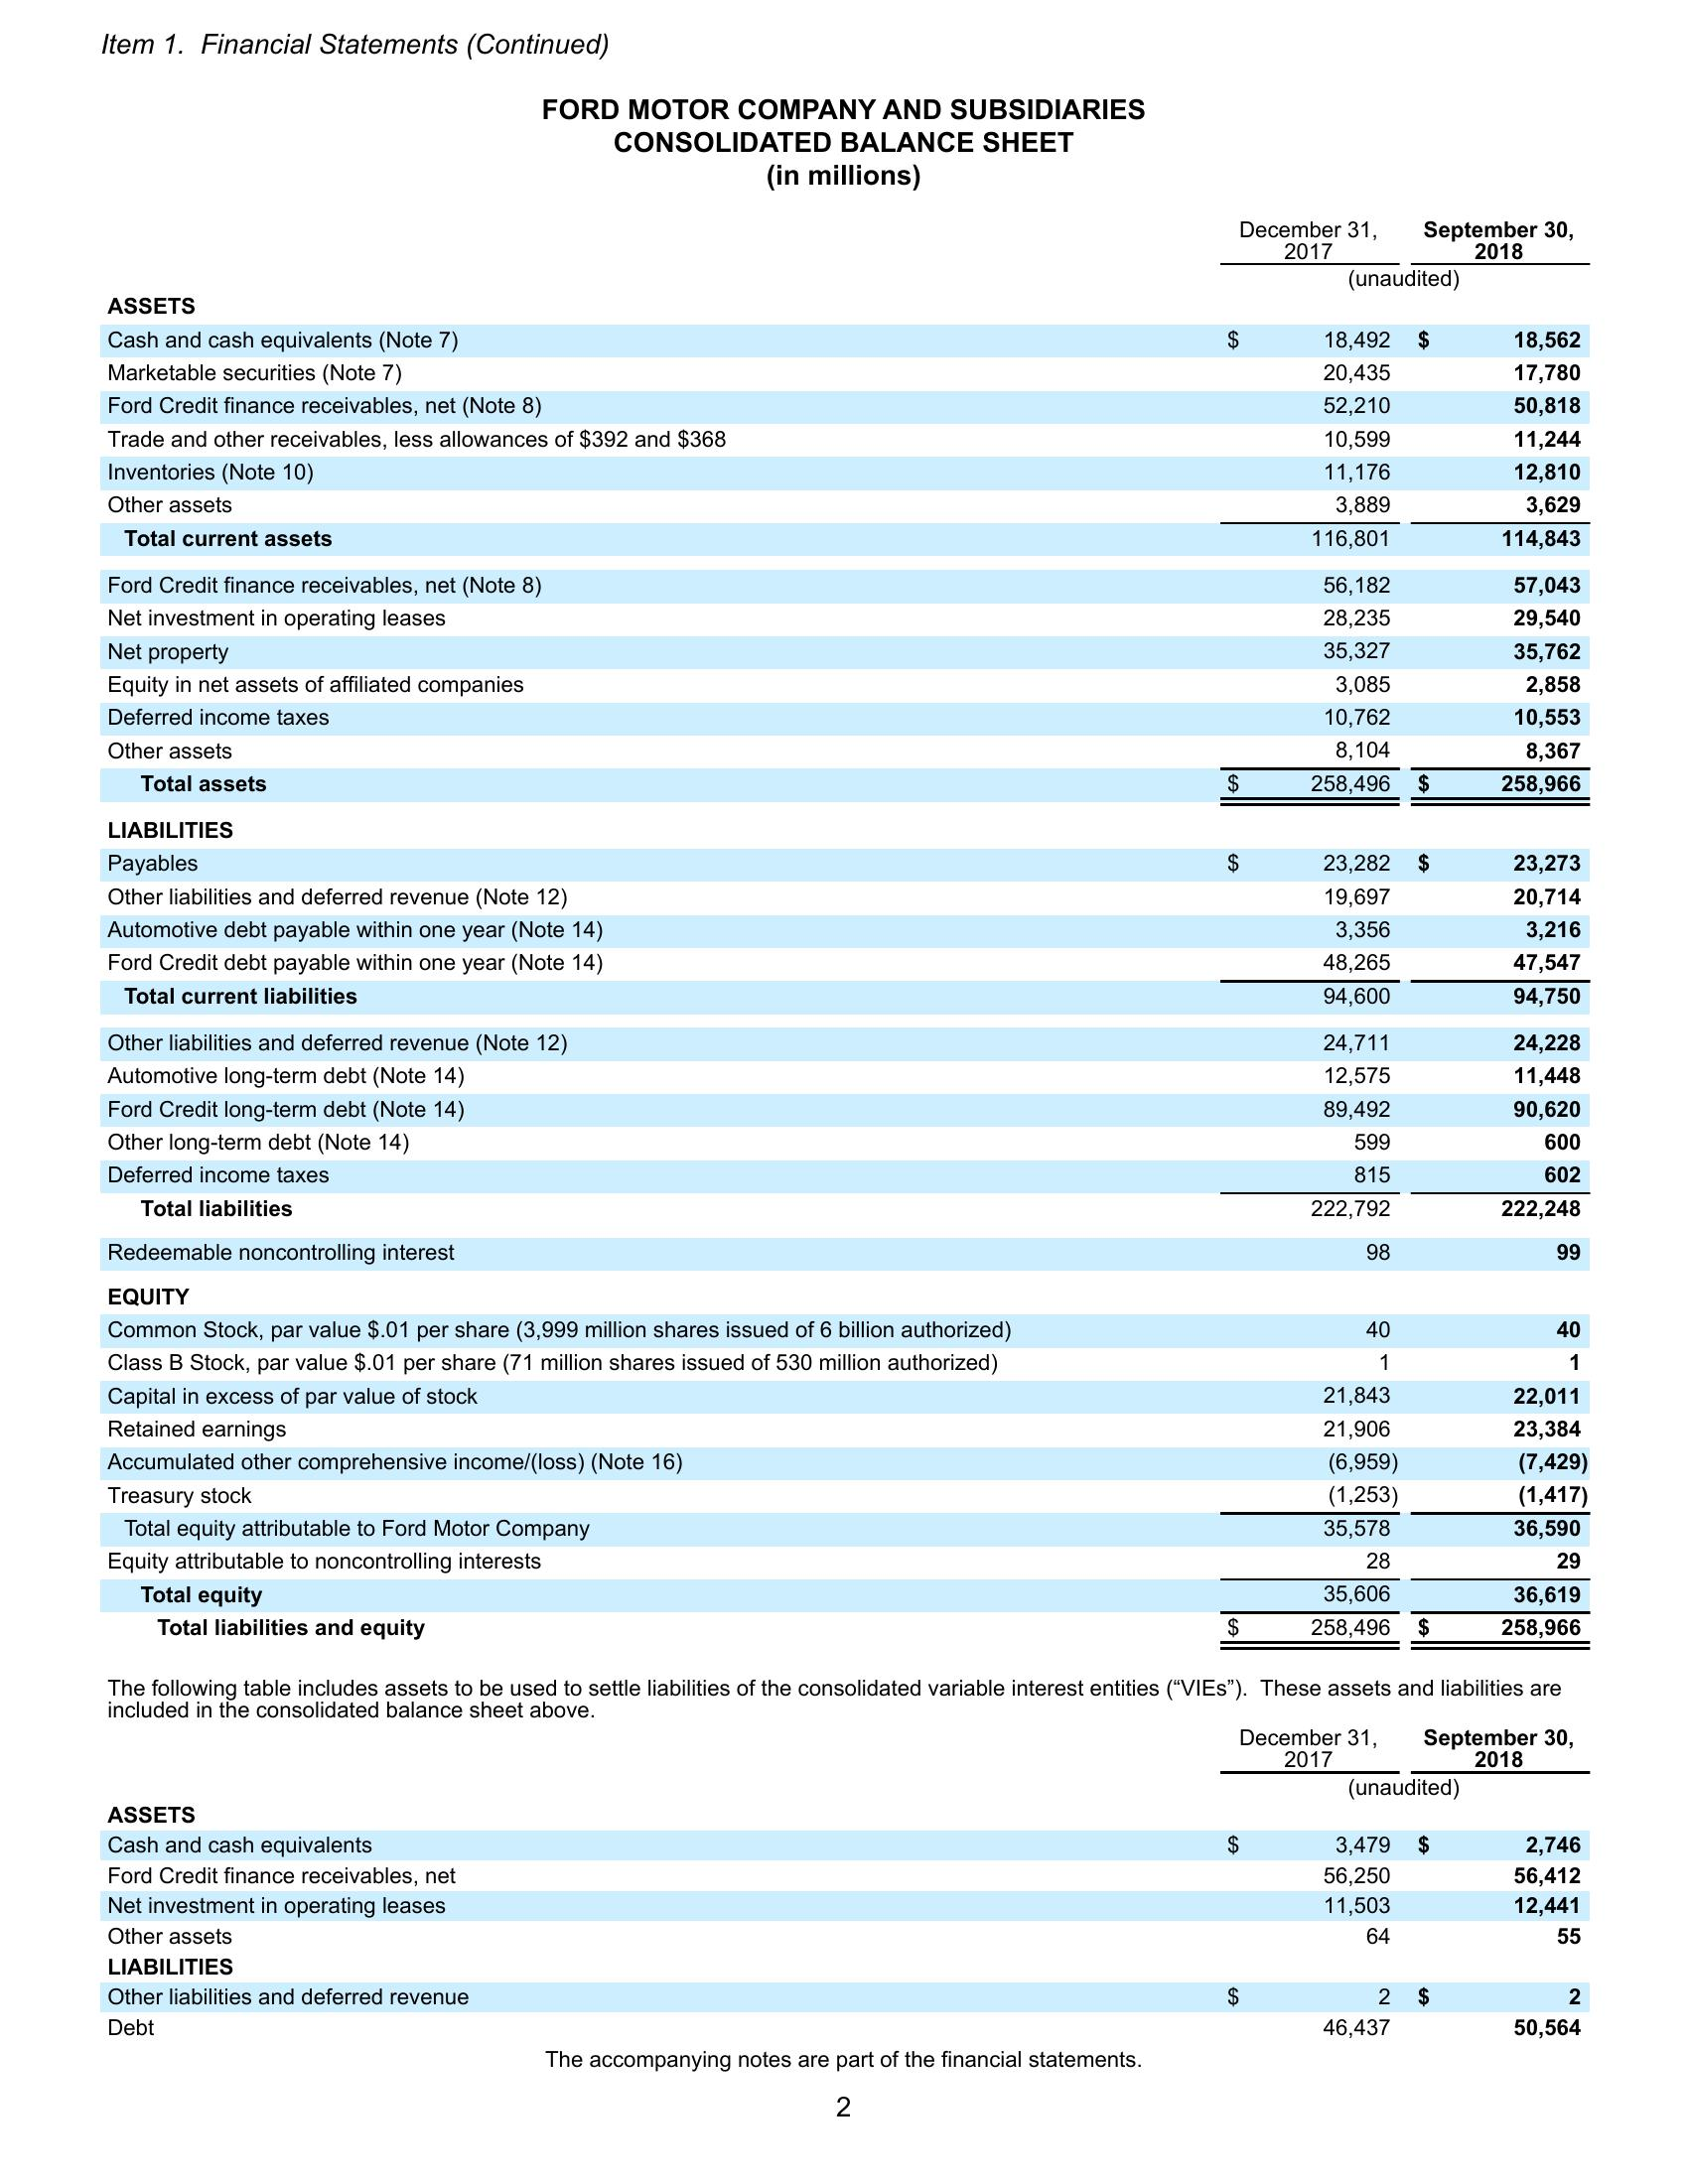table: (96, 216, 1596, 1658), (103, 1720, 1596, 2040)
